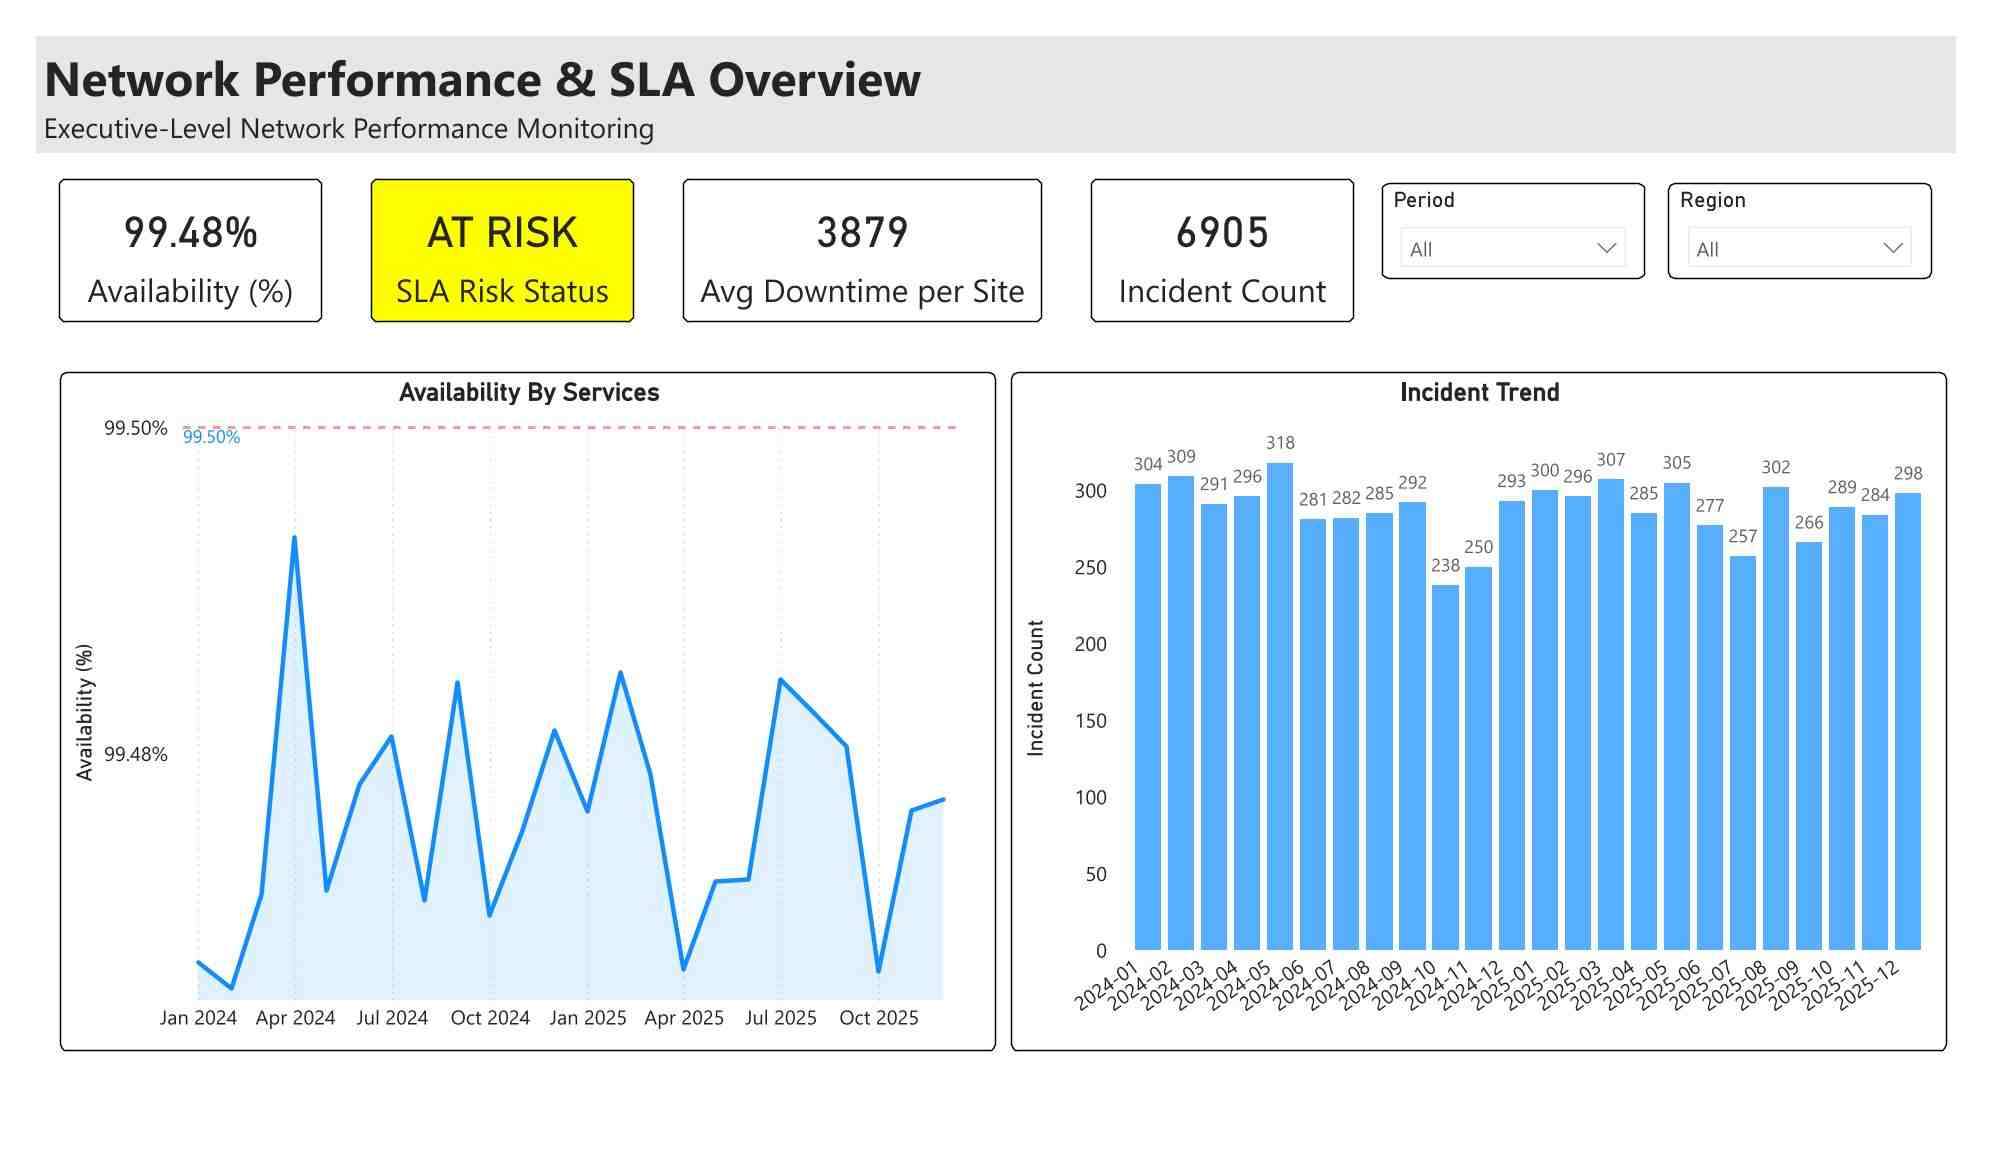

The dashboard page shown, as its layout file describes it:
{"tool":"powerbi","page":{"name":"EXECUTIVE OVERVIEW","canvas":[1280,720],"ordinal":0},"visuals":[{"type":"card","fields":{"Values":["fact_network_kpi.Availability (%)"]},"box":[15.3,95.3,176,96],"z":0},{"type":"card","fields":{"Values":["fact_network_kpi.SLA Risk Status"]},"box":[223.3,95.3,176,96],"z":1000},{"type":"card","fields":{"Values":["fact_network_kpi.Avg Downtime per Site (Minutes)"]},"box":[431.3,95.3,240,96],"z":2000},{"type":"card","fields":{"Values":["fact_incident.Incident Count"]},"box":[703.3,95.3,176,96],"z":3000},{"type":"textbox","box":[0,0,1280,78.3],"z":4000},{"type":"lineChart","title":"Availability By Services","fields":{"Category":["dim_date.year_month"],"Y":["fact_network_kpi.Availability (%)"]},"box":[15.7,223.7,624.3,452.9],"z":5000},{"type":"clusteredColumnChart","title":"Incident Trend","fields":{"Category":["dim_date.year_month"],"Y":["fact_incident.Incident Count"]},"box":[650,223.7,624,452.9],"z":6000},{"type":"slicer","title":"Region","fields":{"Values":["dim_region.region"]},"box":[1088.3,97.7,175.7,64.3],"z":7000},{"type":"slicer","title":"Period","fields":{"Values":["dim_date.year_month"]},"box":[896.9,97.7,175.7,64.3],"z":8000}]}

Visuals, with their boxes in screenshot pixels (x1, y1, x2, y2), scaled from the page's 1280x720 canvas onto the 1992x1152 screenshot:
card - fact_network_kpi.Availability (%): (24, 152, 298, 306)
card - fact_network_kpi.SLA Risk Status: (348, 152, 621, 306)
card - fact_network_kpi.Avg Downtime per Site (Minutes): (671, 152, 1045, 306)
card - fact_incident.Incident Count: (1095, 152, 1368, 306)
textbox: (0, 0, 1991, 125)
"Availability By Services" lineChart: (24, 358, 996, 1083)
"Incident Trend" clusteredColumnChart: (1012, 358, 1983, 1083)
"Region" slicer: (1694, 156, 1967, 259)
"Period" slicer: (1396, 156, 1669, 259)
